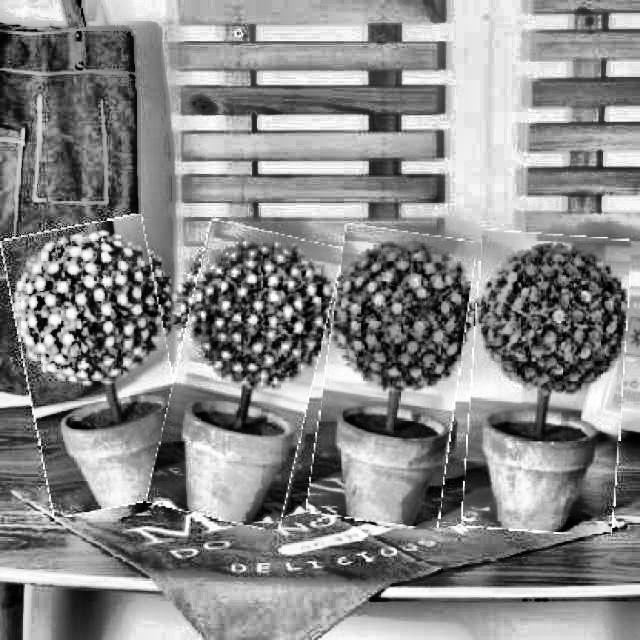plants: (162, 224, 328, 526), (12, 220, 180, 514), (467, 232, 627, 534), (317, 227, 468, 526)
